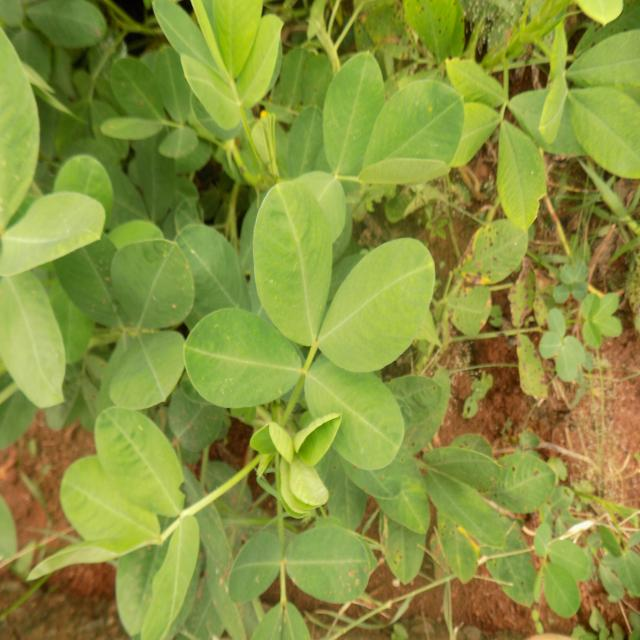Ground nut_healthy: (314, 231, 430, 381), (252, 186, 329, 336), (186, 311, 305, 399), (95, 406, 180, 515), (492, 118, 544, 234), (287, 532, 368, 599)
